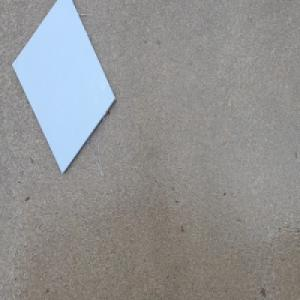PaintChip: (11, 0, 117, 179)
